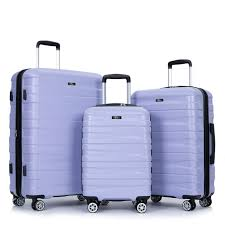suitcase: (8, 40, 105, 210), (127, 59, 218, 214), (78, 72, 153, 213)
